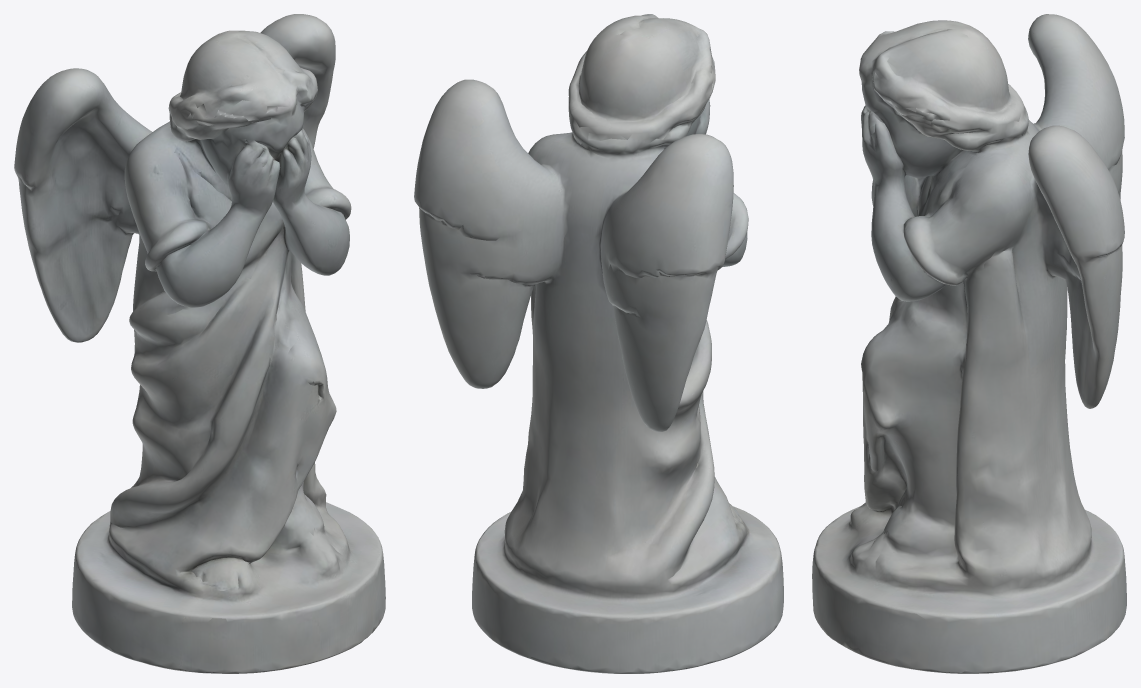
File: angel.glb
The picture shows the model from 3 angles, left to right: view 1: azimuth 30°, elevation 25°; view 2: azimuth 150°, elevation 25°; view 3: azimuth 270°, elevation 25°; orthographic projection.
Visible parts, largest first — view 1: Mesh; view 2: Mesh; view 3: Mesh.
Part boxes in pixels (x1,y1,x2,y2): Mesh: [14, 14, 385, 673]; Mesh: [414, 14, 783, 673]; Mesh: [812, 14, 1126, 673].
Bounding box in the file's own units: 1.04 × 1.89 × 0.9286.
1 material, 1 textured.
